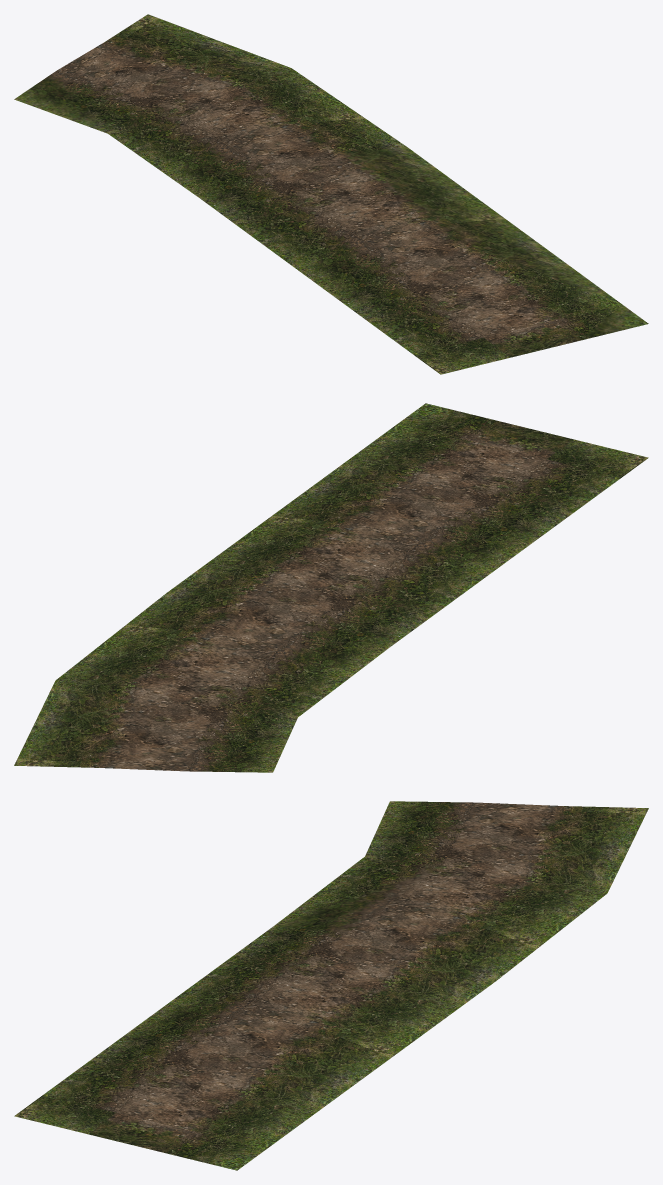
The model's file is Path02.fbx.
The picture shows the model from 3 angles, top to bottom: view 1: azimuth 30°, elevation 25°; view 2: azimuth 150°, elevation 25°; view 3: azimuth 330°, elevation 25°; orthographic projection. The views are drawn at different scales.
Parts seen in each view (by area): view 1: Plane.001; view 2: Plane.001; view 3: Plane.001.
Part boxes in pixels (left/top/right/bottom): Plane.001: left=14, top=14, right=648, bottom=374; Plane.001: left=14, top=403, right=648, bottom=772; Plane.001: left=14, top=801, right=648, bottom=1170.
Size of the model in its own units: 1.59 by 0.0654 by 4.95.
Materials: 1 (1 with a texture image).
